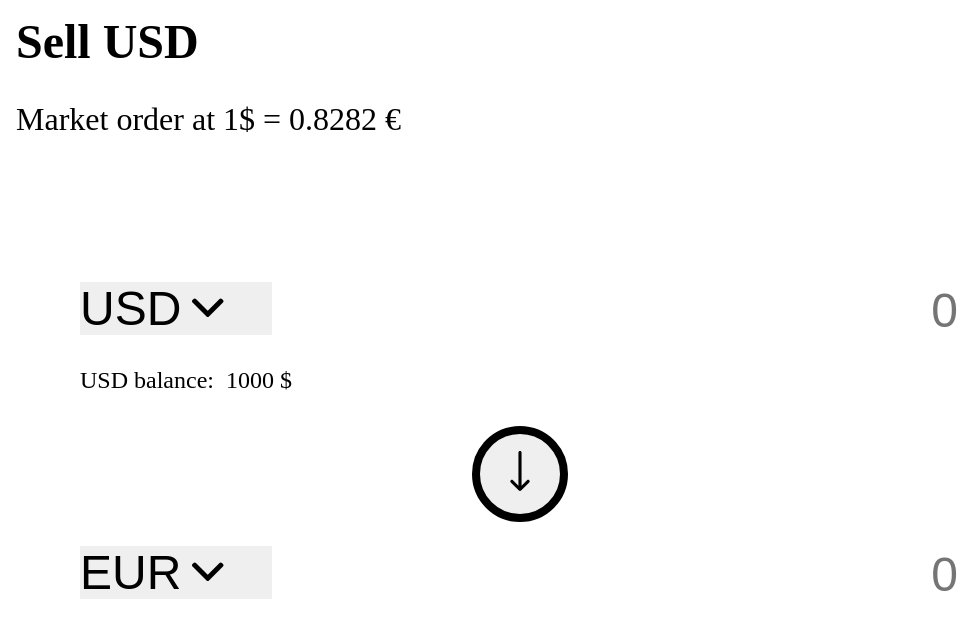
Test: Widget › should render change wallet amounts when click on enter key
In the 1st field with placeholder "0": [782, 310] box [604, 282, 960, 339], type "1000"
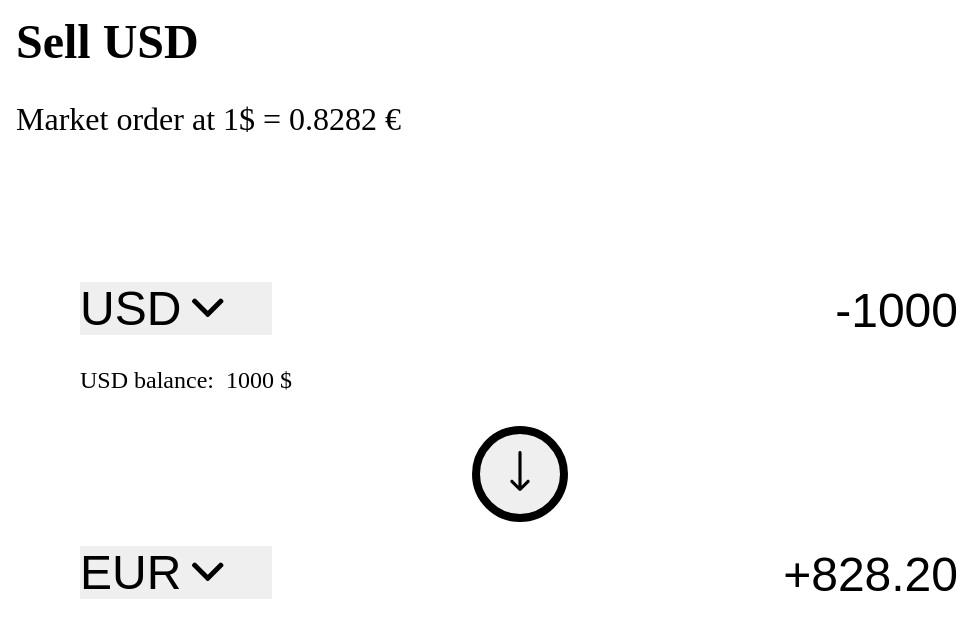
Check: the 1st field holds "-1000"
Check: the 2nd field holds "+828.20", box [604, 546, 960, 603]
Press Enter in the 1st field, box [604, 282, 960, 339]
(page scrolled)
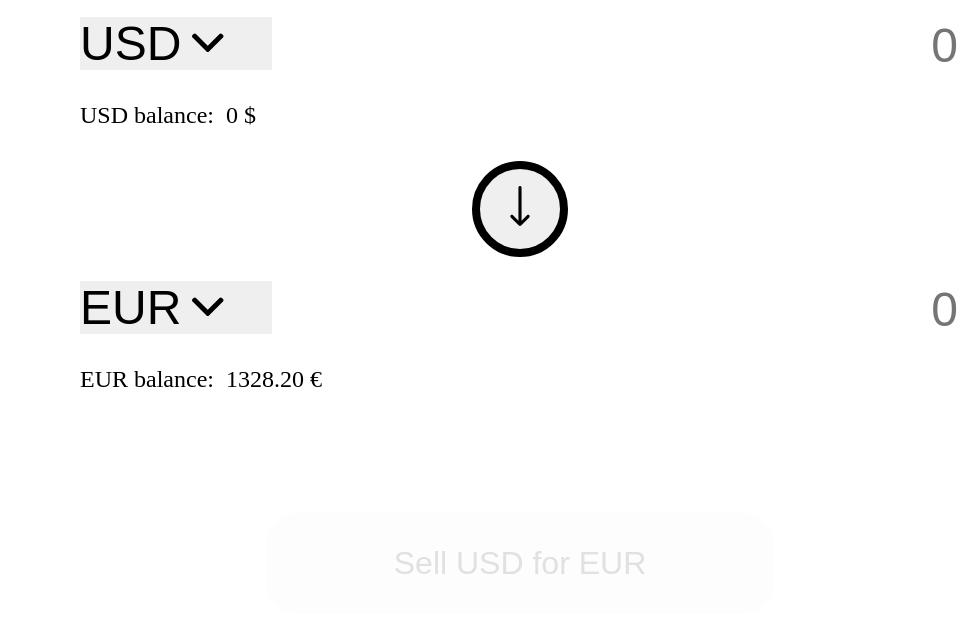
Check: the 1st field with placeholder "0" is empty, box [604, 17, 960, 74]
Check: the 2nd field with placeholder "0" is empty, box [604, 281, 960, 338]
Check: the text "1328.20 €" is shown, box [226, 366, 322, 392]
